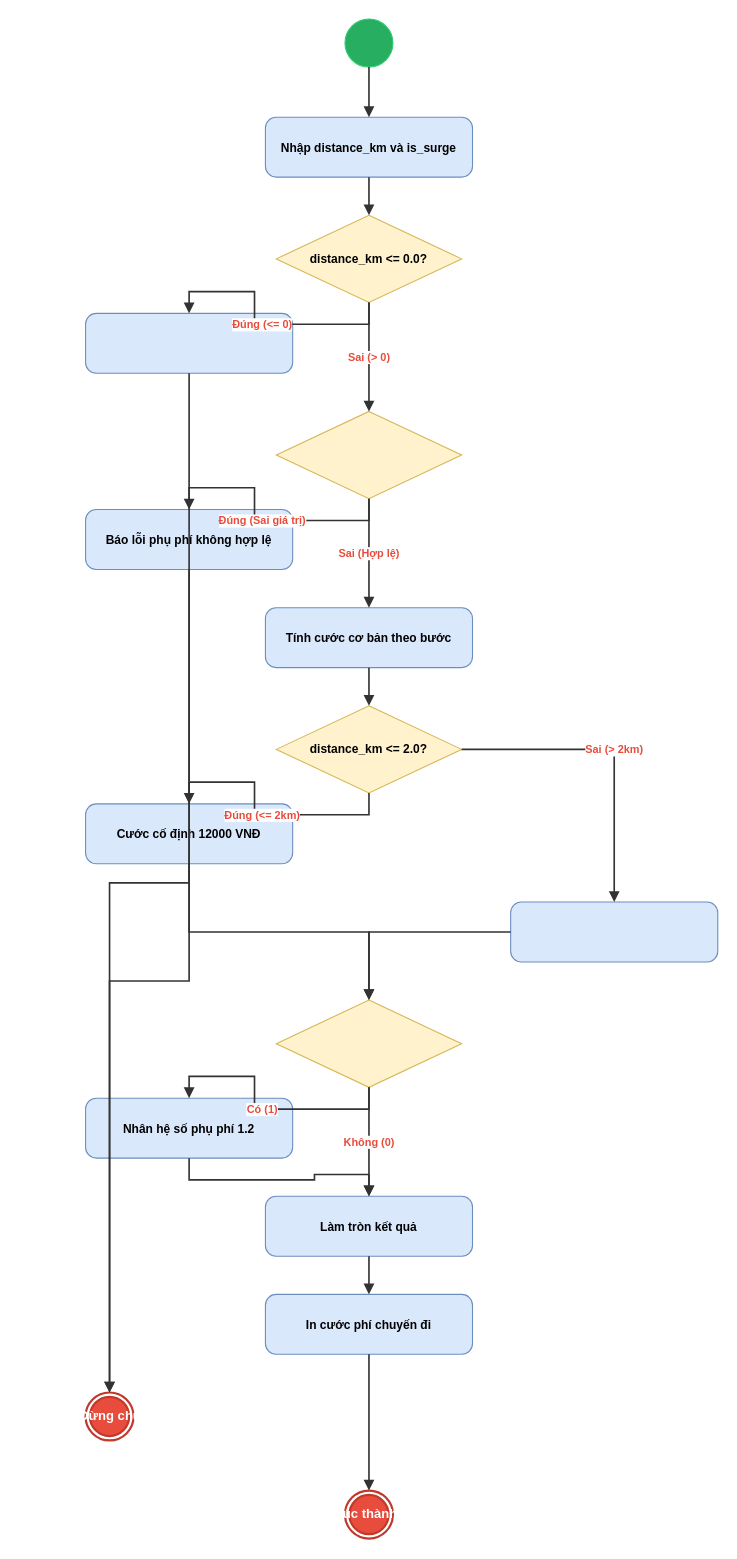
The diagram is 737 pixels wide and 1559 high, and some of its shapes have lost their labels. The shapes that lost their labels are listed below. From the top down, each one's box as (x1, y1, x2, y2) in pixels, then its label:
(344, 18, 393, 67): Bắt đầu
(84, 312, 293, 373): Báo lỗi quãng đường không hợp lệ
(275, 410, 462, 499): is_surge khác 0 và khác 1?
(510, 901, 718, 962): Cước cơ bản + phần vượt trội
(275, 999, 462, 1087): is_surge == 1?
